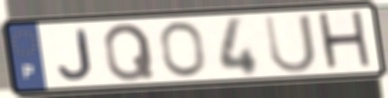4: (217, 15, 262, 79)
H: (314, 8, 376, 74)
J: (56, 27, 96, 82)
O: (157, 19, 209, 79)
Q: (102, 21, 158, 83)
U: (261, 11, 319, 75)
